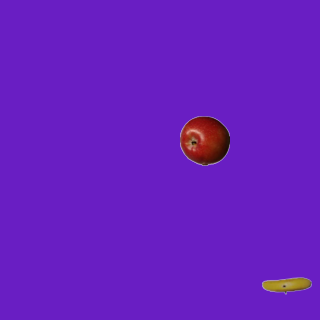Apple Braeburn: (179, 115, 229, 165)
Banana: (261, 260, 311, 310)
